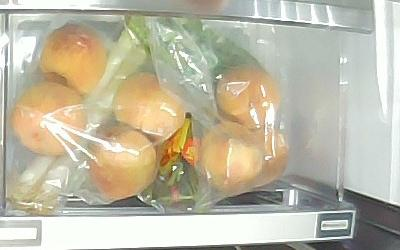peach_vinyl: (12, 82, 87, 153), (112, 73, 184, 140), (88, 127, 155, 198), (40, 25, 107, 92), (199, 123, 261, 188), (217, 67, 278, 126)
